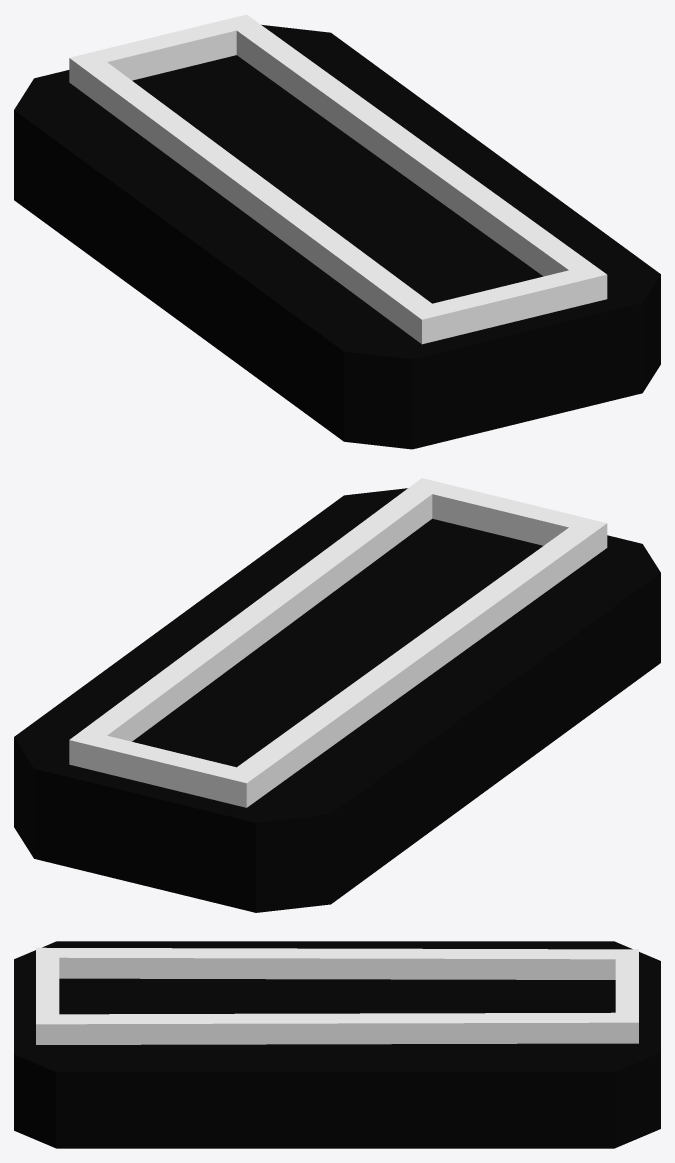
File: Scanner.fbx
The picture shows the model from 3 angles, top to bottom: view 1: azimuth 30°, elevation 25°; view 2: azimuth 150°, elevation 25°; view 3: azimuth 270°, elevation 25°; orthographic projection. The views are drawn at different scales.
Parts seen in each view (by area): view 1: Cube; view 2: Cube; view 3: Cube.
Boxes of the visible parts, x1,y1,x2,y2 form: Cube: [14, 14, 660, 449]; Cube: [14, 478, 660, 912]; Cube: [14, 941, 660, 1148].
Bounding box in the file's own units: 22.93 × 7.93 × 47.91.
1 material, 1 textured.
